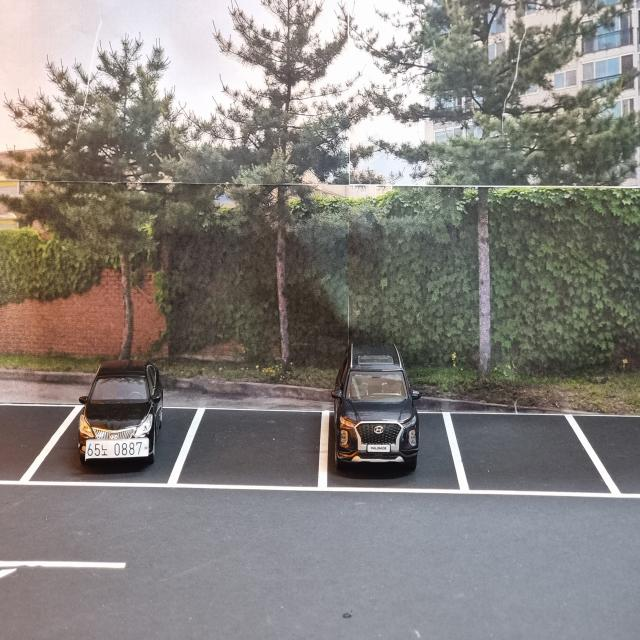empty: (442, 410, 598, 495), (188, 405, 322, 491), (0, 401, 78, 487), (598, 399, 640, 497)
occupied: (331, 345, 423, 480), (80, 354, 166, 462)
